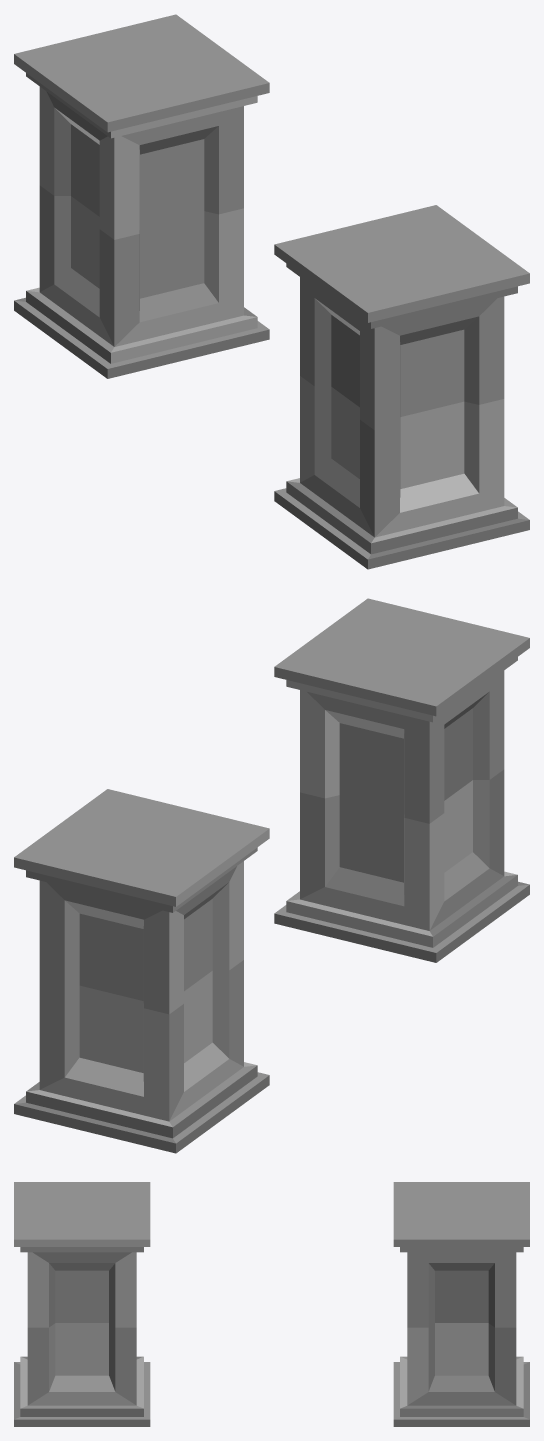
The model's file is castle_town_interior_pillar.fbx.
The picture shows the model from 3 angles, top to bottom: view 1: azimuth 30°, elevation 25°; view 2: azimuth 150°, elevation 25°; view 3: azimuth 270°, elevation 25°; orthographic projection. The views are drawn at different scales.
Visible parts, largest first — view 1: stair.004; view 2: stair.004; view 3: stair.004.
Part boxes in pixels (<box>): stair.004: <box>14,14,529,569</box>; stair.004: <box>14,598,529,1153</box>; stair.004: <box>14,1182,529,1426</box>.
Bounding box in the file's own units: 3974 × 1590 × 1051.
